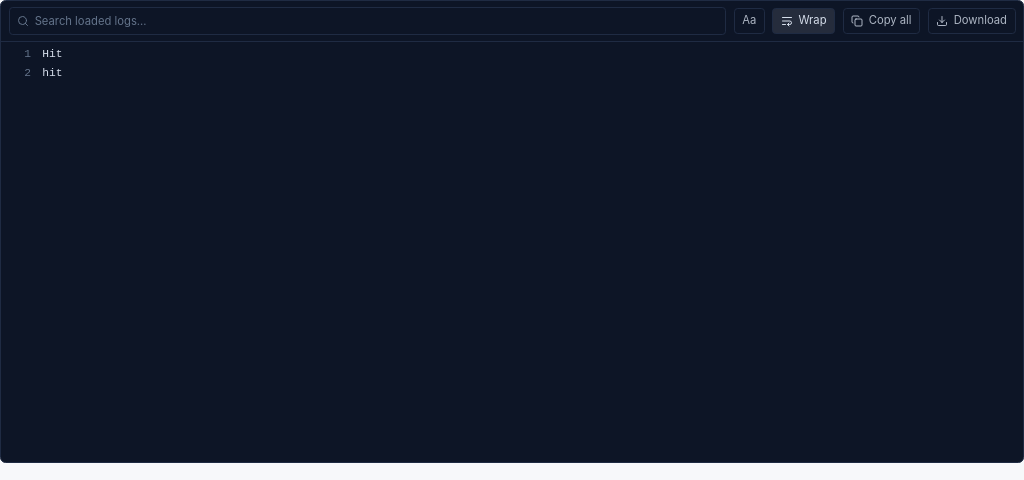
Scenario: LogViewer tone and tail controls › respects the case-sensitivity toggle
Type "hit" into the field with placeholder "Search loaded logs…" at (376, 21), box [35,8,718,34]
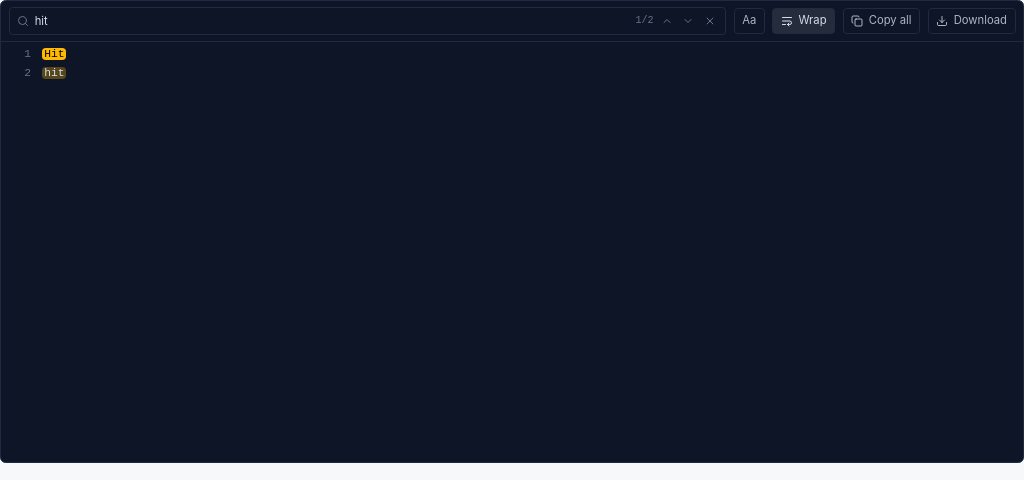
Expected: the text "1/2" is shown, [636,14,654,28]
Click the button with aria-label "Match case" at (749, 21), box [734,8,765,34]
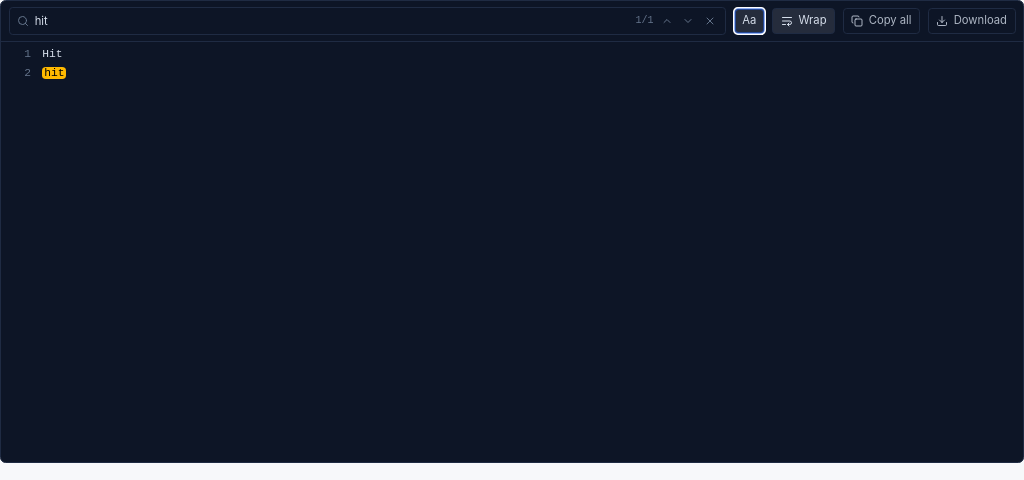
Expected: the text "1/1" is shown, [636,14,654,28]
